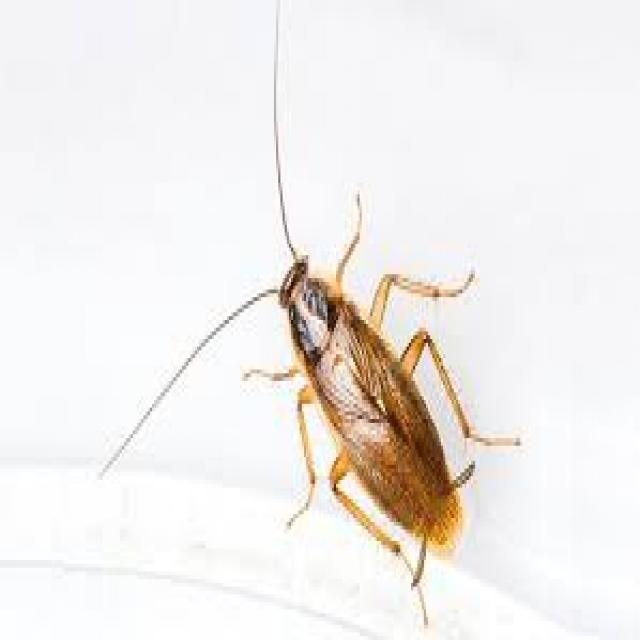Cockroach: (212, 180, 524, 628)
